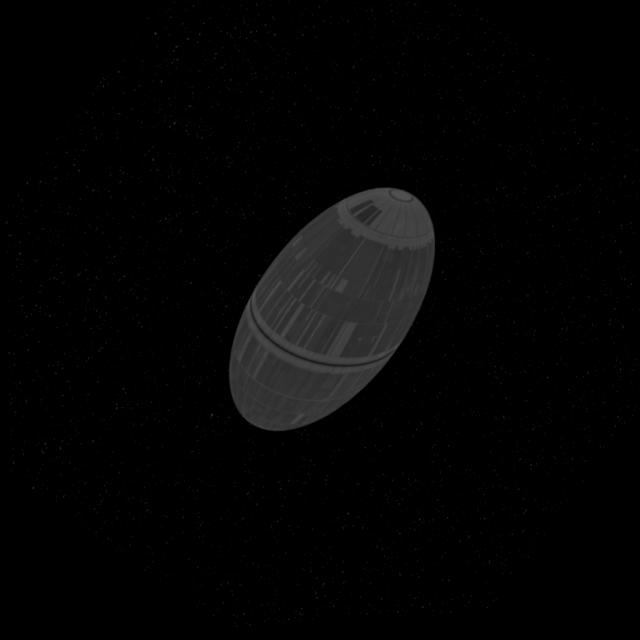death-stars: (227, 191, 435, 435)
